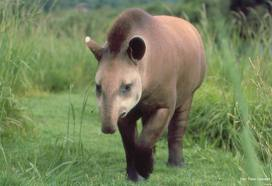Anta: (81, 5, 207, 180)
